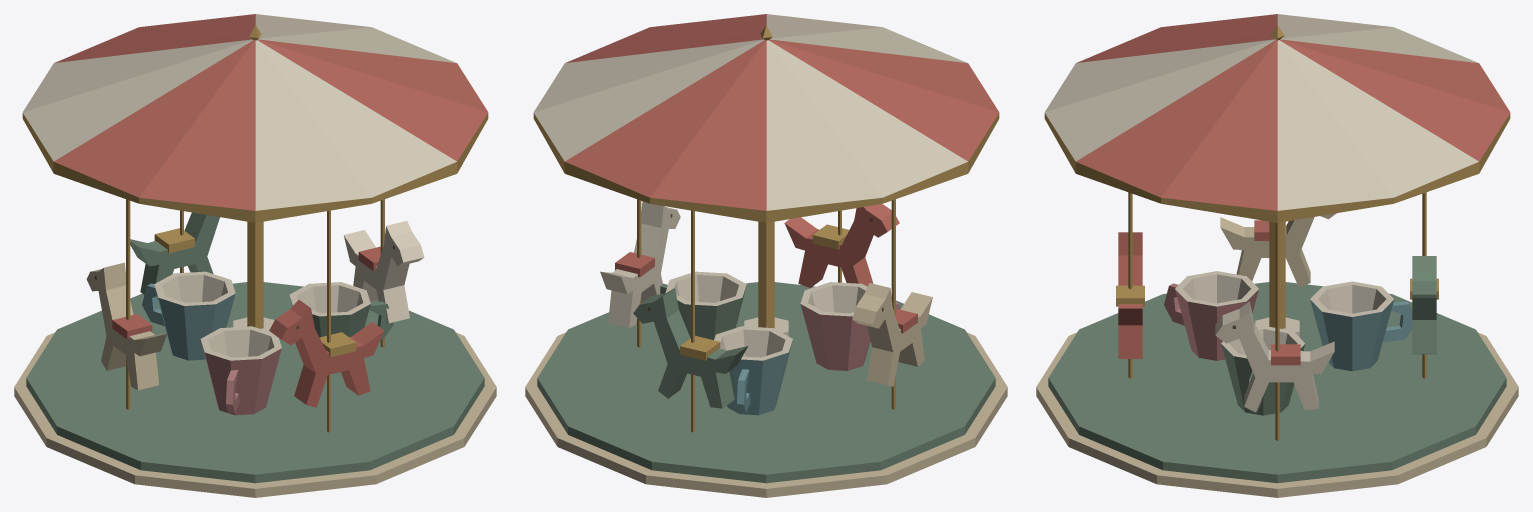
File: amusement.glb
3 renders of one model, left to right at view 1: azimuth 30°, elevation 25°; view 2: azimuth 150°, elevation 25°; view 3: azimuth 270°, elevation 25°, orthographic.
Visible parts, largest first — view 1: CarouselRotor, TeacupsRotor, CarouselBase; view 2: CarouselRotor, TeacupsRotor, CarouselBase; view 3: CarouselRotor, TeacupsRotor, CarouselBase.
Boxes of the visible parts, x1,y1,x2,y2 form: CarouselRotor: (22, 14, 488, 483); TeacupsRotor: (142, 271, 393, 415); CarouselBase: (14, 221, 496, 497); CarouselRotor: (533, 14, 999, 483); TeacupsRotor: (660, 271, 900, 415); CarouselBase: (525, 221, 1007, 497); CarouselRotor: (1044, 14, 1510, 483); TeacupsRotor: (1164, 271, 1412, 415); CarouselBase: (1036, 221, 1518, 497).
Bounding box in the file's own units: 4.35 × 3.69 × 4.35.
